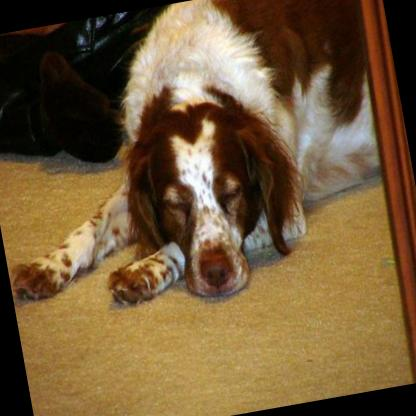Brittany_spaniel: (0, 0, 416, 331)
